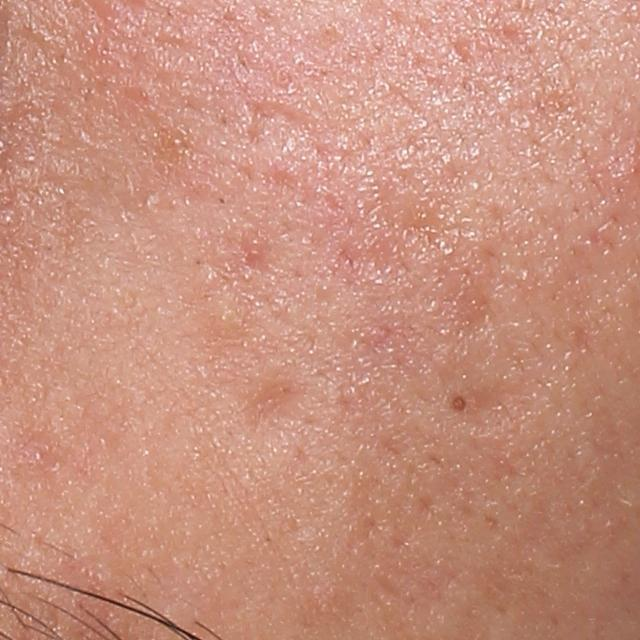atrophic_scar: (233, 369, 307, 456), (235, 90, 313, 156)
comedo: (207, 297, 245, 333), (443, 387, 472, 417)
